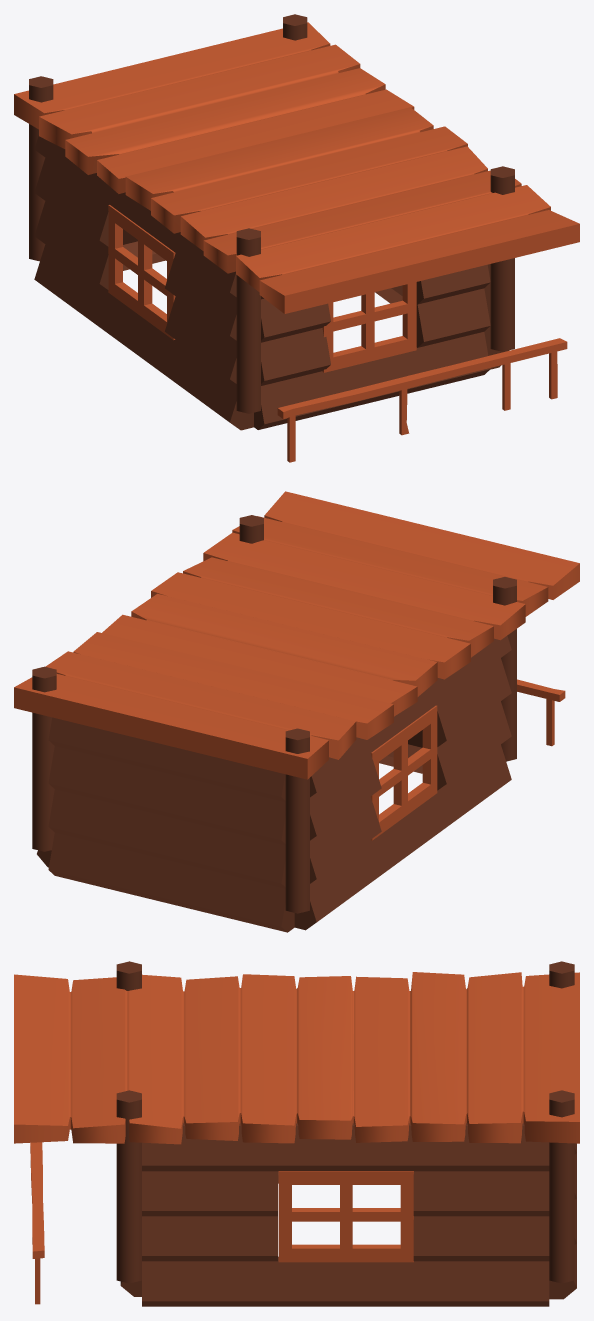
The model's file is CASA MODULO 2.FBX.
3 renders of one model, top to bottom at view 1: azimuth 30°, elevation 25°; view 2: azimuth 150°, elevation 25°; view 3: azimuth 270°, elevation 25°, orthographic. The views are drawn at different scales.
Visible parts, largest first — view 1: piso extra002; view 2: piso extra002; view 3: piso extra002.
Boxes of the visible parts, left/top/right/bottom form: piso extra002: left=14, top=14, right=579, bottom=462; piso extra002: left=14, top=491, right=579, bottom=932; piso extra002: left=14, top=961, right=579, bottom=1306.
Bounding box in the file's own units: 101 × 63.77 × 157.
